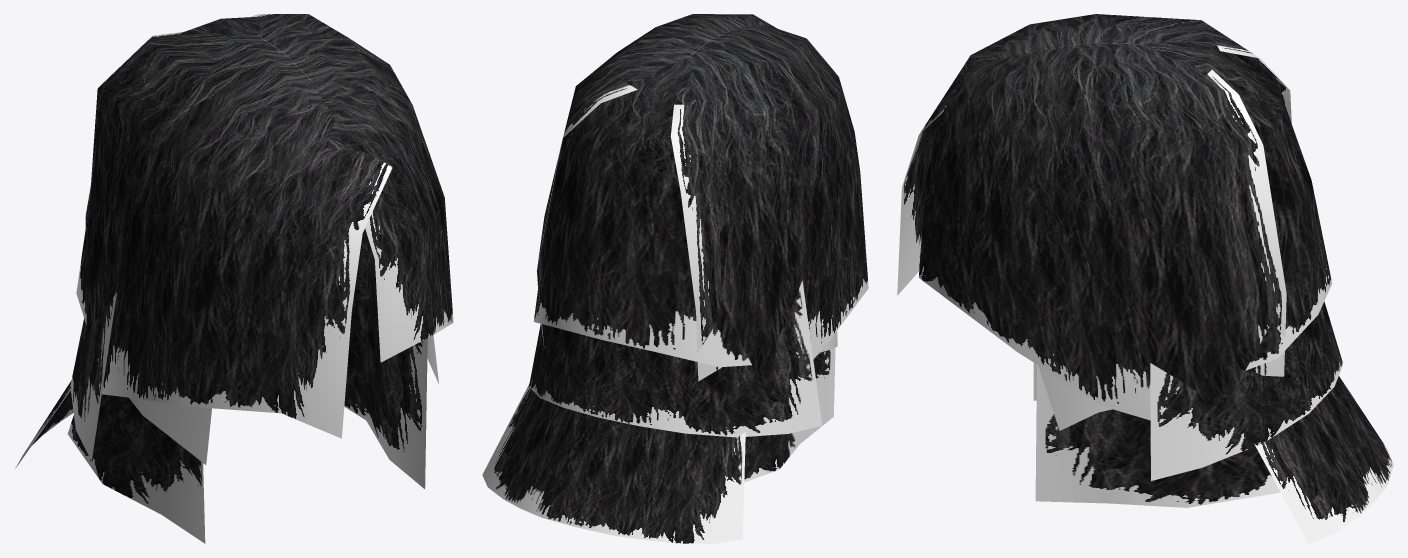
The model's file is Hair_01.fbx.
3 views of the same model, side by side, from view 1: azimuth 30°, elevation 25°; view 2: azimuth 150°, elevation 25°; view 3: azimuth 270°, elevation 25° (orthographic). The views are drawn at different scales.
Visible parts, largest first — view 1: Hair_01; view 2: Hair_01; view 3: Hair_01.
Part boxes in pixels (bbox=[...]): Hair_01: bbox=[15, 14, 453, 543]; Hair_01: bbox=[482, 14, 868, 543]; Hair_01: bbox=[897, 14, 1393, 543].
Size of the model in its own units: 21.69 by 30.36 by 31.17.
